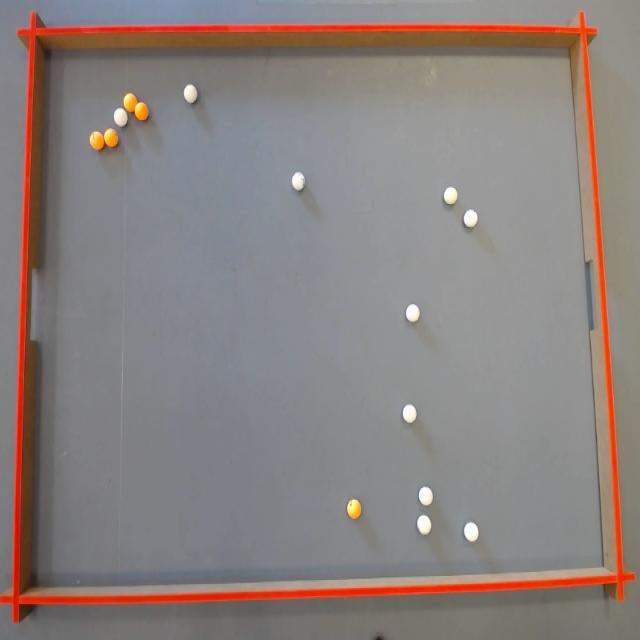orange_ball: (124, 92, 138, 112), (347, 499, 361, 519), (134, 102, 148, 121), (104, 128, 118, 147), (90, 131, 104, 150)
white_ball: (418, 486, 433, 506), (463, 209, 478, 228), (464, 522, 478, 542), (417, 515, 431, 535), (114, 108, 128, 127), (406, 304, 420, 322), (184, 85, 197, 104), (292, 172, 305, 190), (403, 405, 416, 423), (444, 187, 457, 204)
